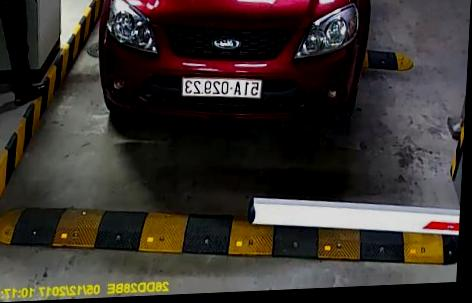License_Plate: (175, 72, 265, 103)
